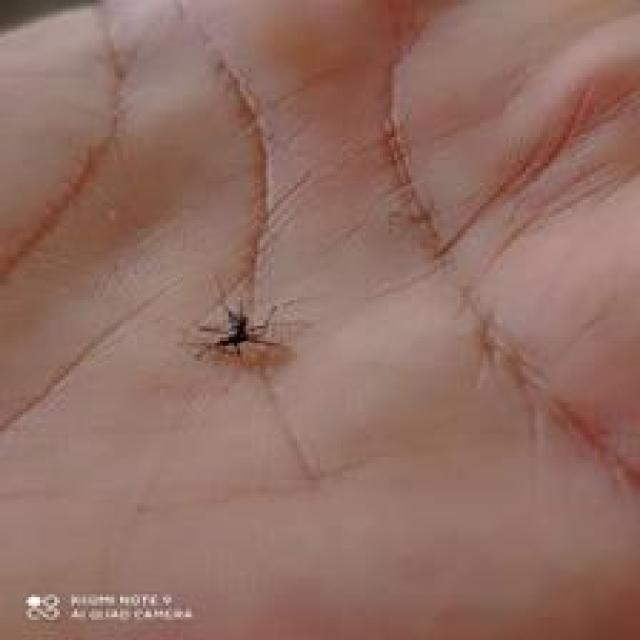Aedes albopictus: (182, 293, 304, 367)
